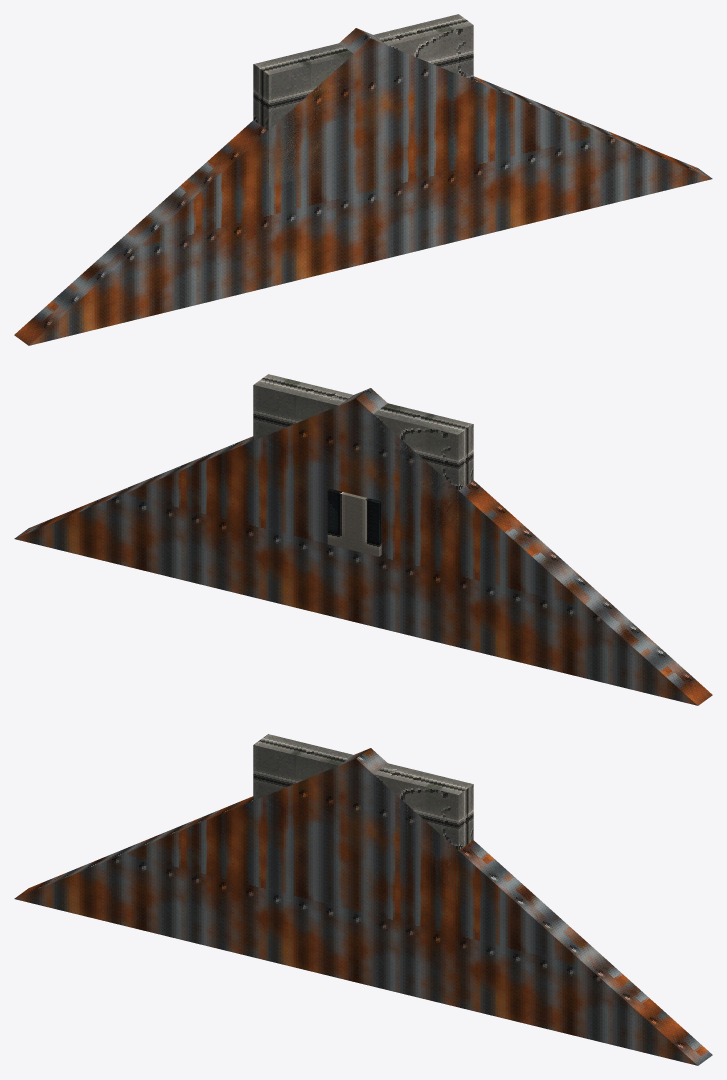
Rendered from gable_metal_8.glb.
3 renders of one model, top to bottom at view 1: azimuth 30°, elevation 25°; view 2: azimuth 150°, elevation 25°; view 3: azimuth 330°, elevation 25°, orthographic.
Visible parts, largest first — view 1: gable_metal_8_mesh, gable_metal_8_col-colonly.001; view 2: gable_metal_8_mesh, gable_metal_8_col-colonly.001; view 3: gable_metal_8_mesh, gable_metal_8_col-colonly.001.
Part boxes in pixels (<box>): gable_metal_8_mesh: <box>14,28,712,345</box>; gable_metal_8_col-colonly.001: <box>253,14,473,186</box>; gable_metal_8_mesh: <box>14,388,712,705</box>; gable_metal_8_col-colonly.001: <box>253,374,473,544</box>; gable_metal_8_mesh: <box>14,748,712,1065</box>; gable_metal_8_col-colonly.001: <box>253,734,473,900</box>.
Size of what is drawn, in the model's own units: 8 by 2.5 by 0.355.
3 materials, 3 textured.
